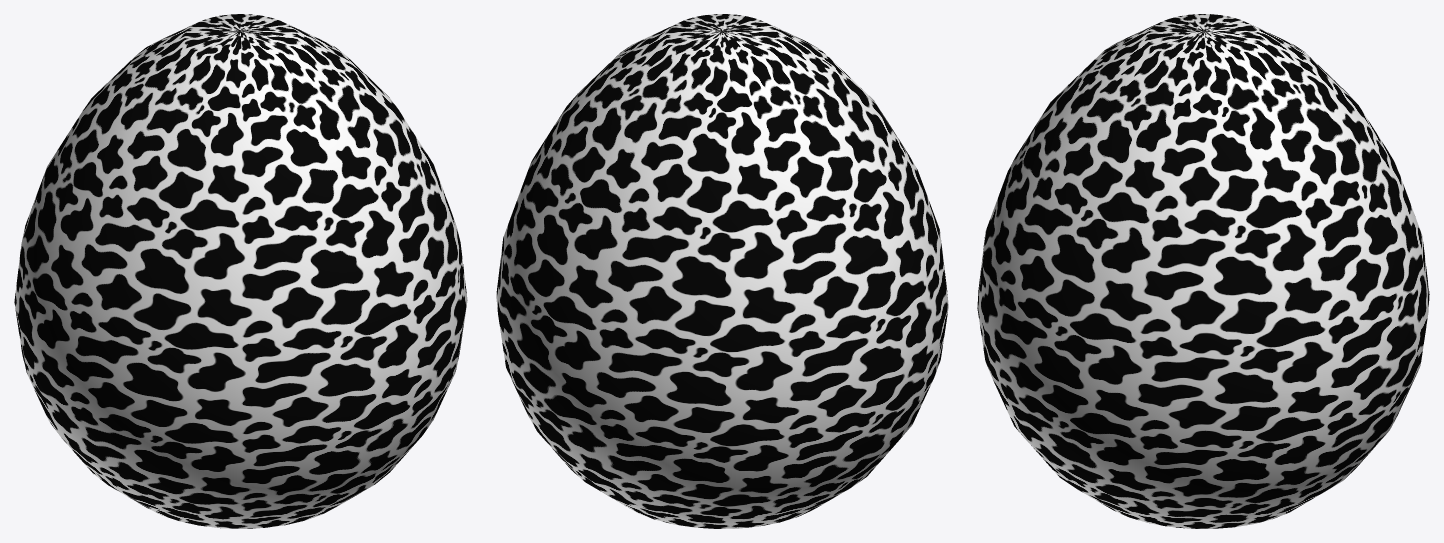
File: Cow.gltf
3 views of the same model, side by side, from view 1: azimuth 30°, elevation 25°; view 2: azimuth 150°, elevation 25°; view 3: azimuth 270°, elevation 25° (orthographic).
Parts seen in each view (by area): view 1: EGG; view 2: EGG; view 3: EGG.
Boxes of the visible parts, x1,y1,x2,y2 form: EGG: (14, 14, 467, 528); EGG: (496, 14, 948, 528); EGG: (977, 14, 1429, 528).
Size of the model in its own units: 1.91 by 2.22 by 1.91.
Materials: 1 (1 with a texture image).
